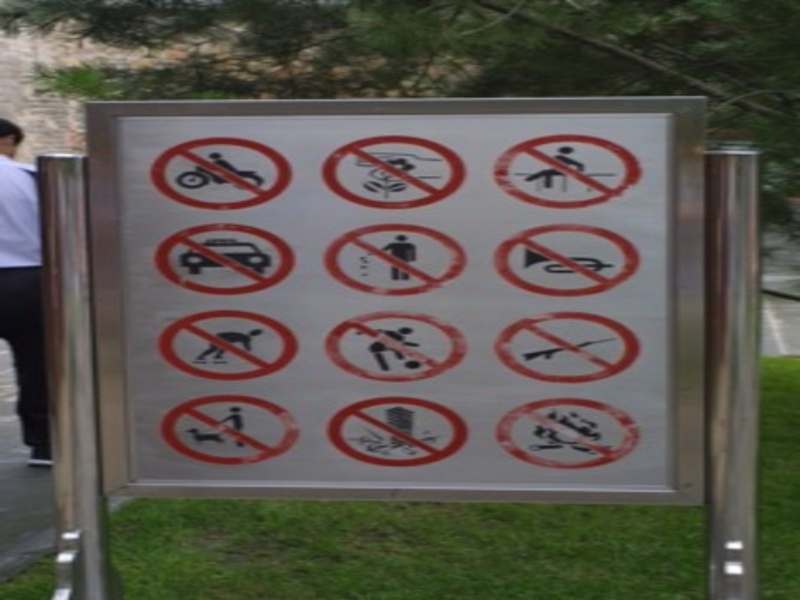no_cycle: (147, 136, 297, 212)
no_vehicle: (152, 220, 300, 300)
